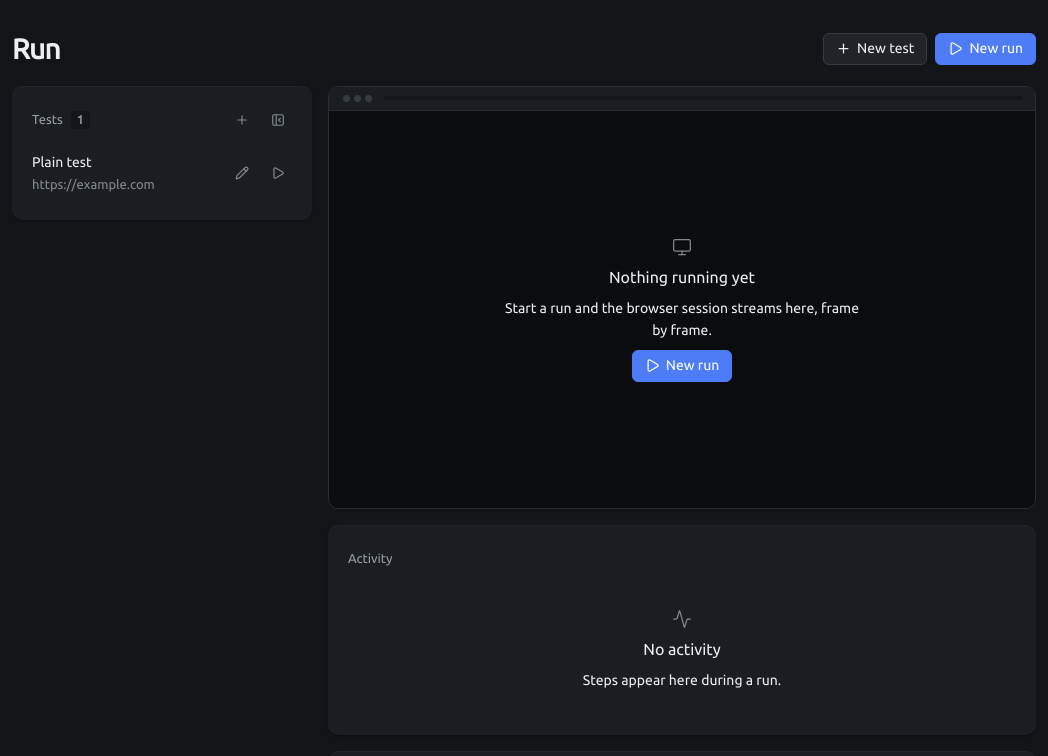
Test: RunView billing refusal (US-022) › shows the subscribe notice, not the error banner, and stays idle
The width and height of the screenshot is (1048, 756).
Click the button named "Run \"Plain test\"": point(278, 173) [264,159,292,187]
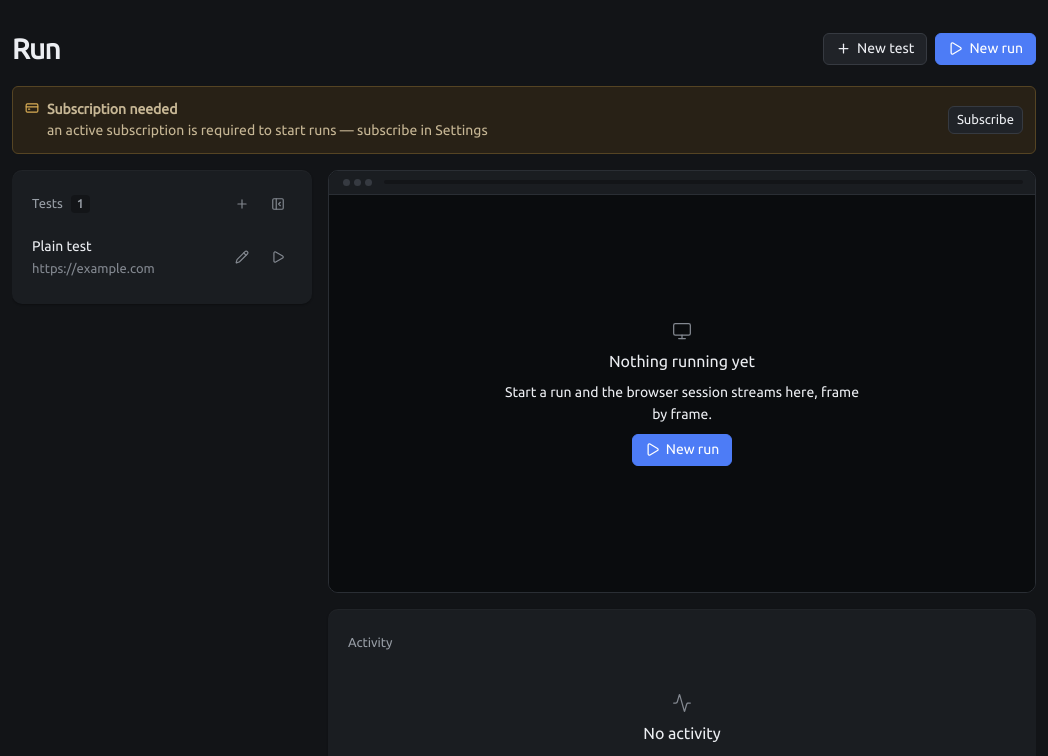
Now the text "Subscription needed" is shown, box [47,101,177,117]
Now the text "an active subscription is required to start runs — subscribe in Settings" is shown, box [47,122,488,138]
